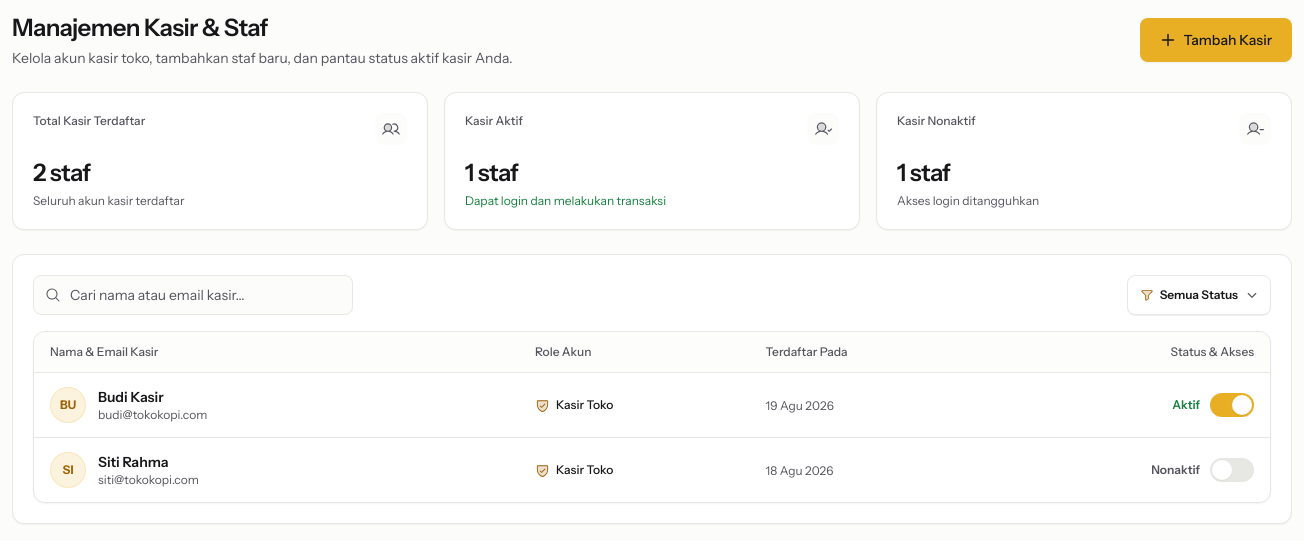
Test case: StaffView › filters cashiers by status using SelectMenu
The image size is (1304, 541).
# Open status filter dropdown and select 'Status: Aktif'
What coordinates should you click on to do the following:
click the dropdown named "Filter status akun kasir"
I would click on:
 (1199, 295)
Its box is [1127,275,1271,315].
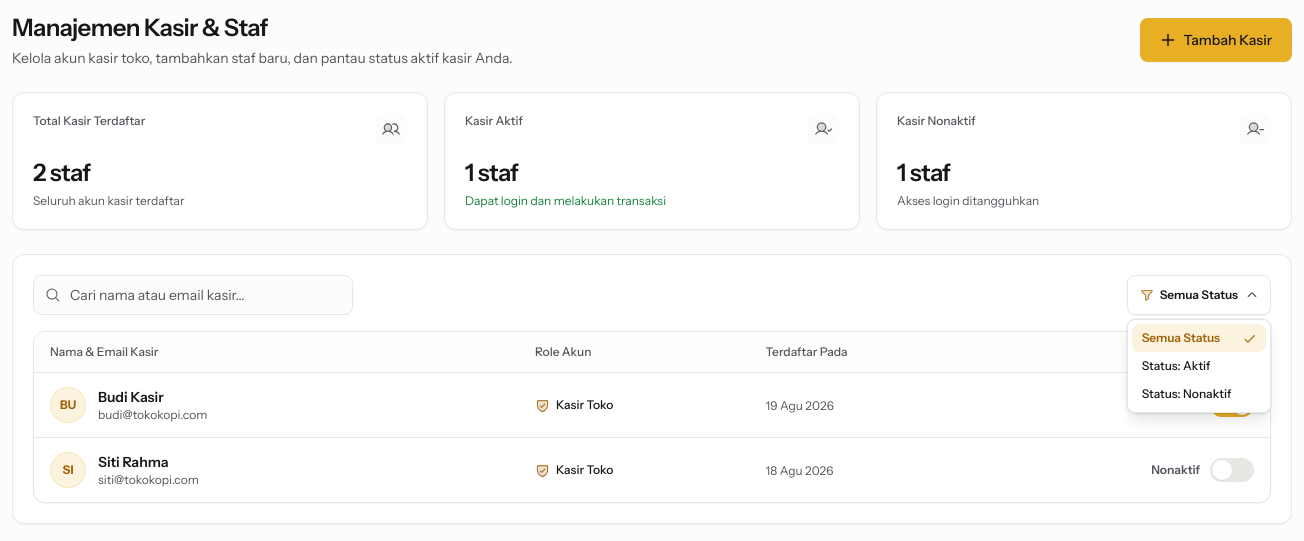
What coordinates should you click on to do the following:
click the option "Status: Aktif"
I would click on:
 (1199, 366)
Its box is [1132,352,1266,380].
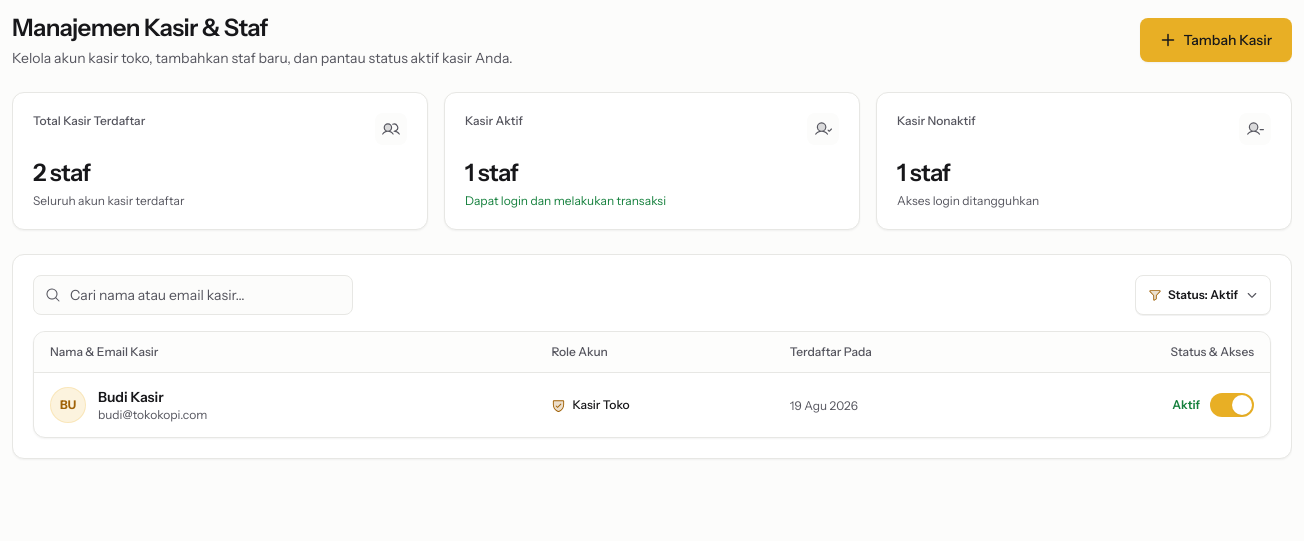
Expected: the text "Budi Kasir" is shown, [98,388,164,406]
Expected: the text "Siti Rahma" is gone
# Select 'Status: Nonaktif'
What coordinates should you click on to do the following:
click the dropdown named "Filter status akun kasir"
I would click on:
 (1203, 295)
Its box is [1135,275,1271,315].
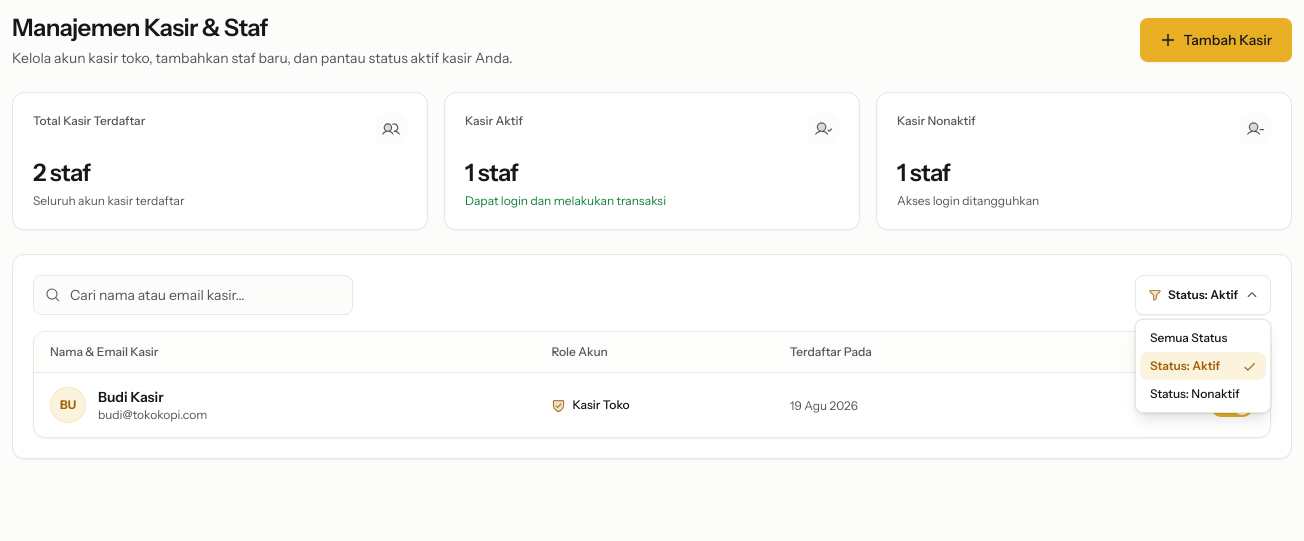
What coordinates should you click on to do the following:
click the option "Status: Nonaktif"
I would click on:
 (1203, 394)
Its box is [1140,380,1266,408].
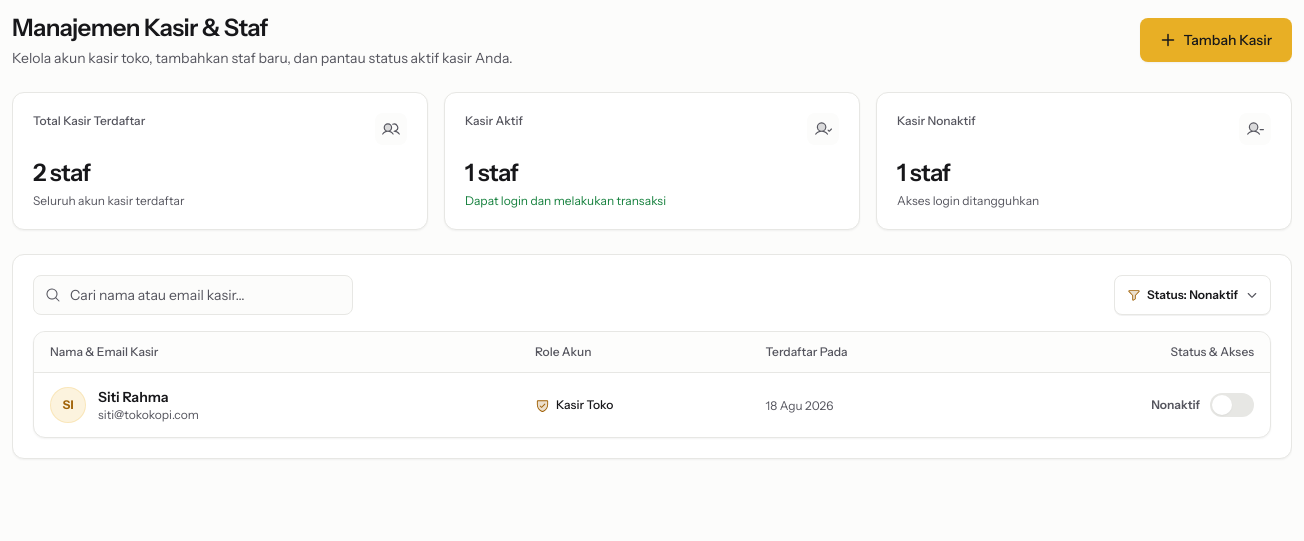
Expected: the text "Siti Rahma" is shown, [98,388,169,406]
Expected: the text "Budi Kasir" is gone
